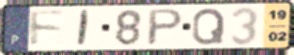3: (230, 4, 262, 47)
8: (114, 9, 143, 47)
F: (28, 10, 67, 49)
I: (76, 9, 92, 48)
P: (145, 8, 186, 48)
Q: (190, 7, 227, 46)
